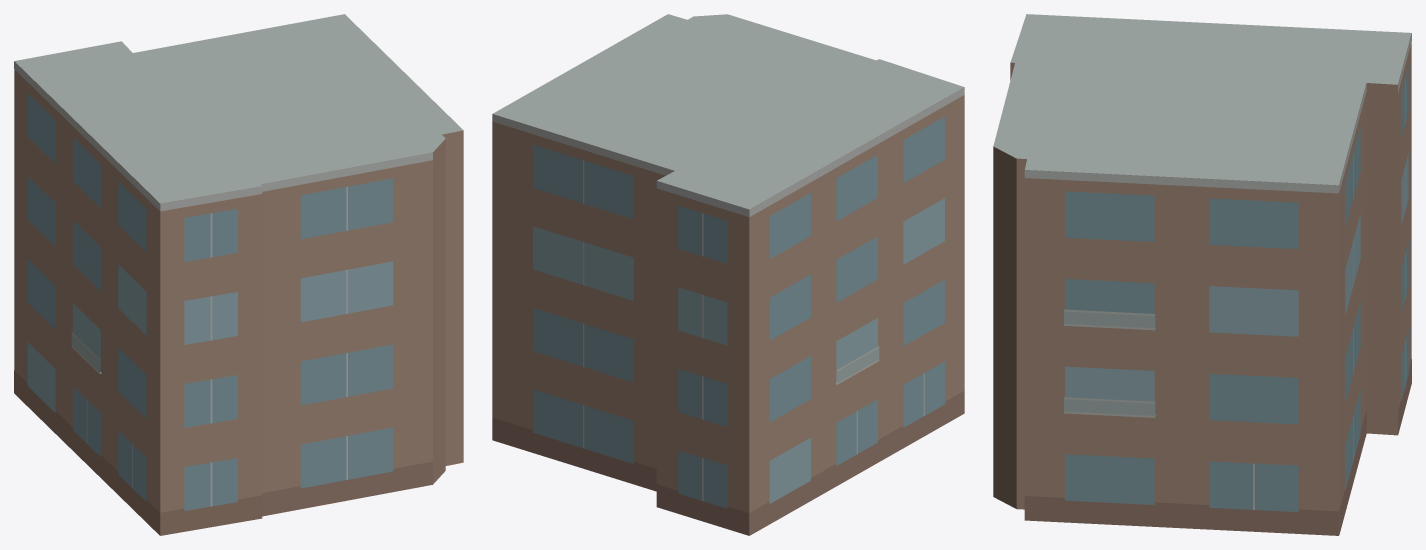
Rendered from survey-upis-32732742.glb.
3 views of the same model, side by side, from view 1: azimuth 30°, elevation 25°; view 2: azimuth 150°, elevation 25°; view 3: azimuth 270°, elevation 25° (orthographic). The views are drawn at different scales.
Parts seen in each view (by area): view 1: survey-upis-32732742.tmp; view 2: survey-upis-32732742.tmp; view 3: survey-upis-32732742.tmp.
Boxes of the visible parts, box(x1,y1,x2,y2) form: survey-upis-32732742.tmp: box(14, 14, 463, 535); survey-upis-32732742.tmp: box(492, 14, 964, 535); survey-upis-32732742.tmp: box(993, 14, 1411, 535).
Size of the model in its own units: 10.91 by 10.4 by 11.26.
